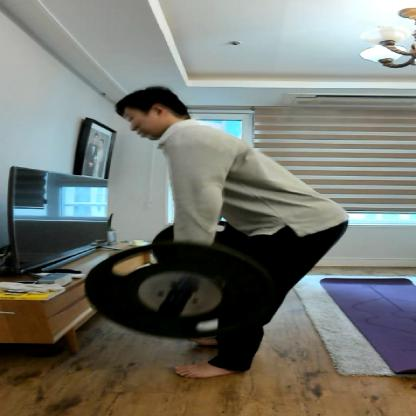Barbell: (76, 236, 276, 343)
